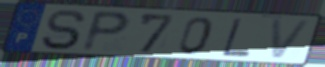0: (177, 16, 216, 55)
7: (138, 12, 178, 54)
L: (219, 17, 252, 59)
P: (79, 9, 133, 54)
S: (38, 9, 88, 52)
V: (269, 17, 315, 61)
